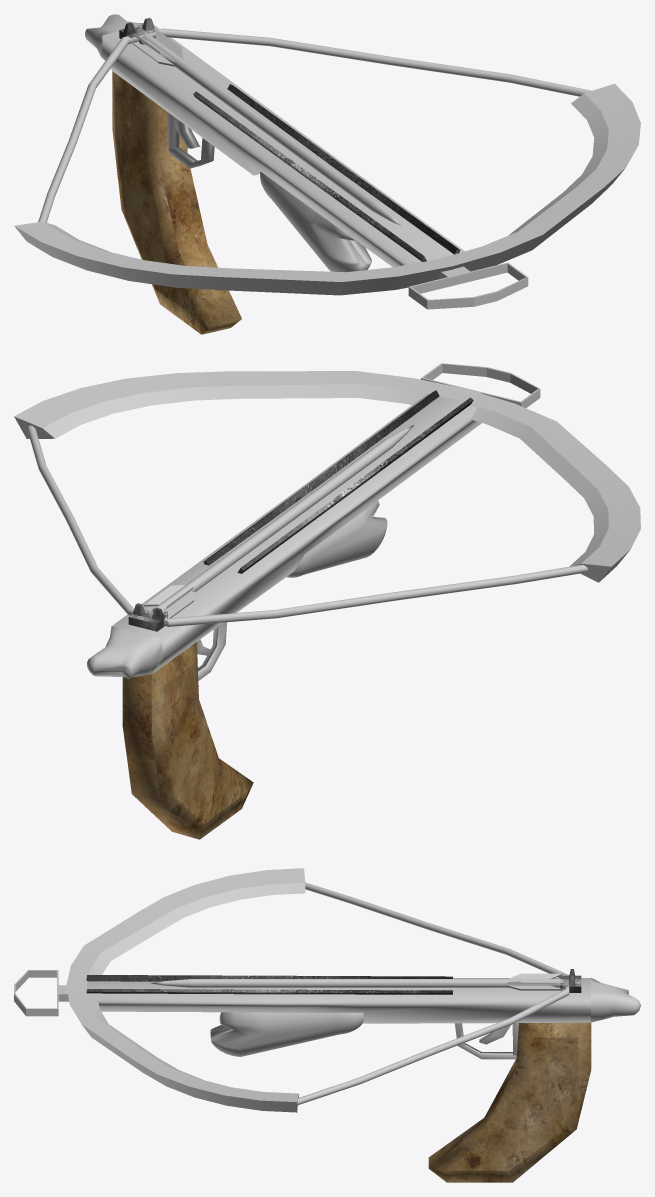
The model's file is Minikruisbot.FBX.
The picture shows the model from 3 angles, top to bottom: view 1: azimuth 30°, elevation 25°; view 2: azimuth 150°, elevation 25°; view 3: azimuth 270°, elevation 25°; orthographic projection. The views are drawn at different scales.
Parts seen in each view (by area): view 1: Voorkantboog, Loop, Greep, pijl, Draad1, Grip, Handgreep, Loopdeel1, Draad2, Loopdeel2, Trekker, Botdeelachter; view 2: Voorkantboog, Loop, Greep, pijl, Draad2, Grip, Botdeelachter, Loopdeel1, Draad1, Loopdeel2, Handgreep, Trekker (+1 smaller); view 3: Greep, Loop, Voorkantboog, Grip, pijl, Draad1, Draad2, Loopdeel1, Loopdeel2, Botdeelachter, Handgreep, Trekker.
Boxes of the visible parts, x1,y1,x2,y2 form: Voorkantboog: [14, 83, 640, 295]; Loop: [102, 25, 465, 267]; Greep: [112, 71, 241, 334]; pijl: [132, 28, 401, 225]; Draad1: [141, 28, 591, 96]; Grip: [260, 171, 371, 272]; Handgreep: [408, 262, 528, 309]; Loopdeel1: [227, 84, 460, 254]; Draad2: [38, 35, 141, 222]; Loopdeel2: [193, 91, 426, 261]; Trekker: [167, 112, 214, 168]; Botdeelachter: [85, 14, 143, 60]; Voorkantboog: [14, 371, 640, 582]; Loop: [112, 393, 481, 673]; Greep: [122, 642, 253, 839]; pijl: [144, 425, 413, 618]; Draad2: [164, 565, 587, 626]; Grip: [286, 500, 387, 577]; Botdeelachter: [87, 626, 162, 679]; Loopdeel1: [203, 390, 439, 565]; Draad1: [27, 425, 133, 615]; Loopdeel2: [237, 397, 473, 573]; Handgreep: [420, 363, 540, 407]; Trekker: [197, 622, 226, 680]; Greep: [428, 1022, 591, 1182]; Loop: [86, 978, 590, 1023]; Voorkantboog: [66, 868, 305, 1112]; Grip: [210, 1012, 363, 1056]; pijl: [150, 973, 562, 990]; Draad1: [297, 986, 569, 1105]; Draad2: [305, 882, 569, 979]; Loopdeel1: [86, 989, 452, 994]; Loopdeel2: [86, 975, 452, 981]; Botdeelachter: [591, 977, 640, 1022]; Handgreep: [14, 970, 68, 1016]; Trekker: [455, 1023, 518, 1059].
Size of the model in its own units: 218 by 88.58 by 247.
